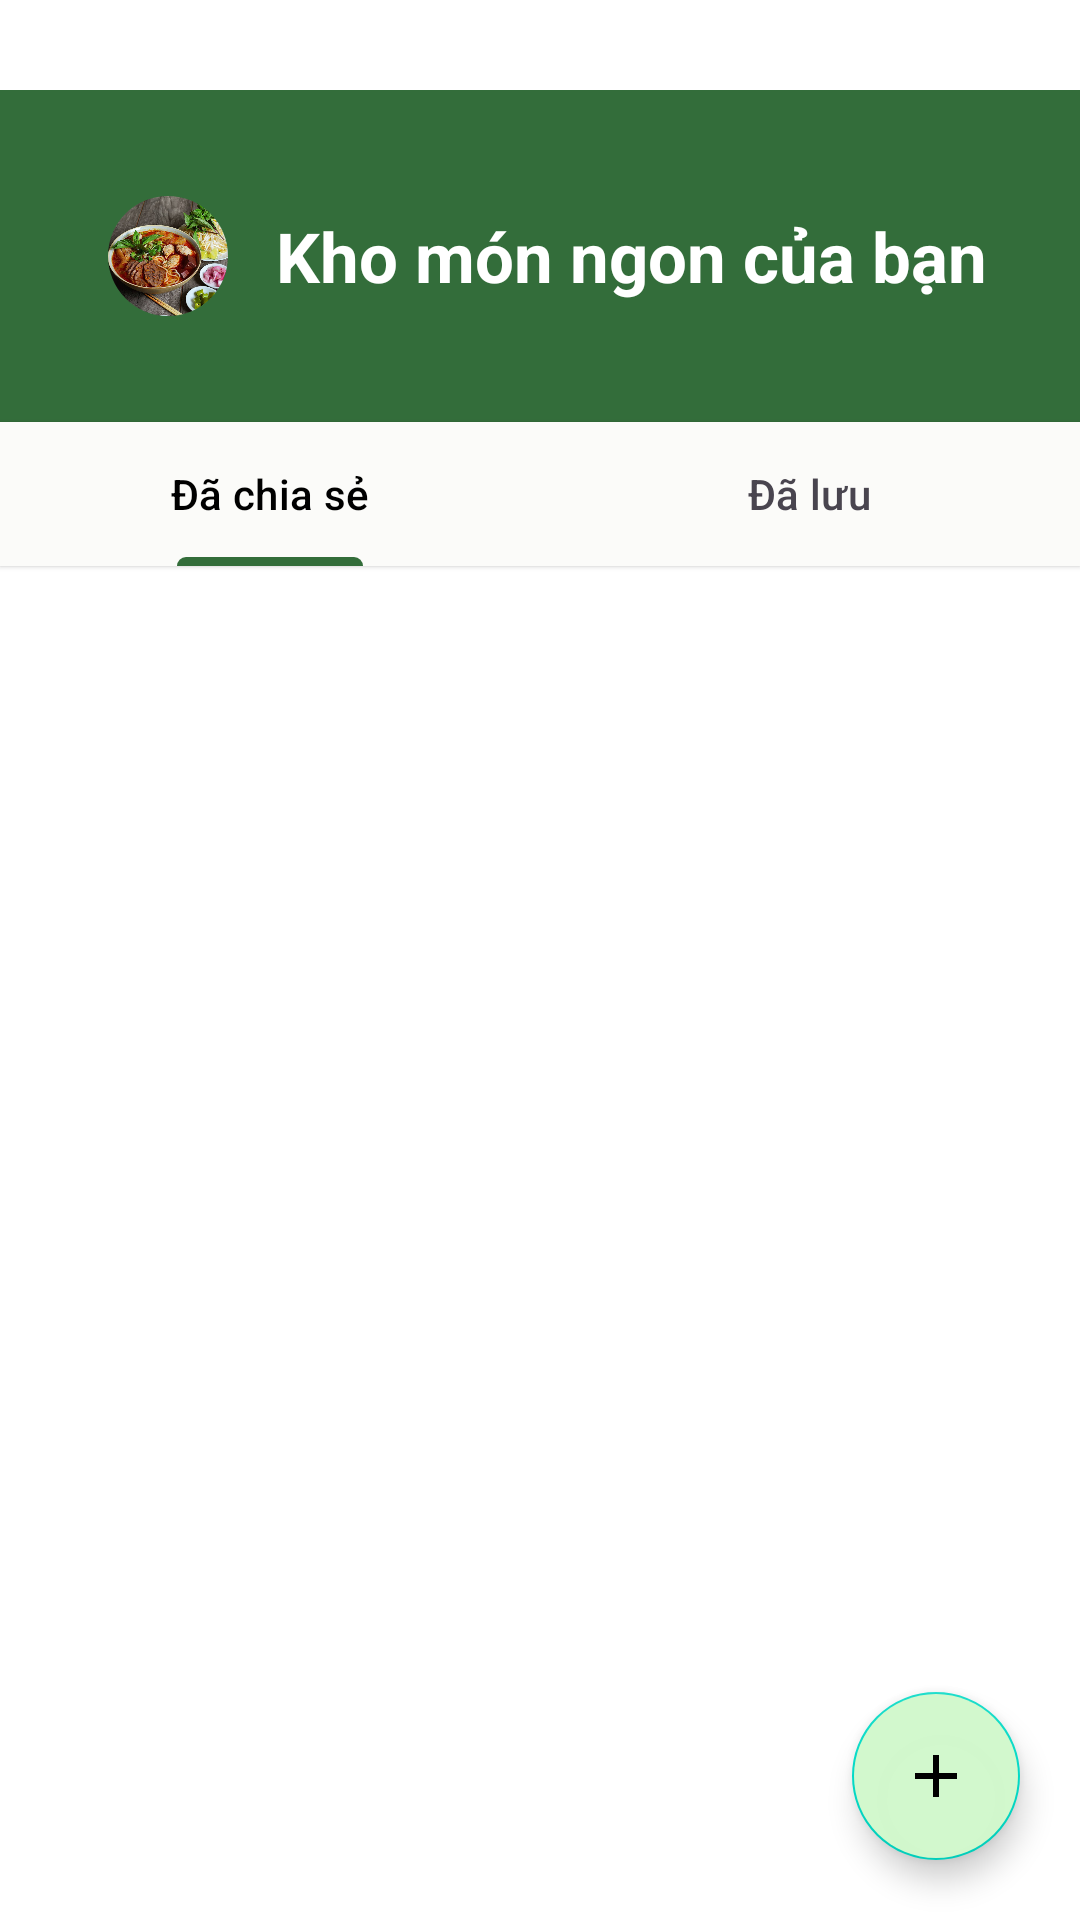

Screen size 1080*1920. Icon name, then its center in pixels as (x=x, y=y):
add: (x=936, y=1776)
monngon: (x=168, y=256)
